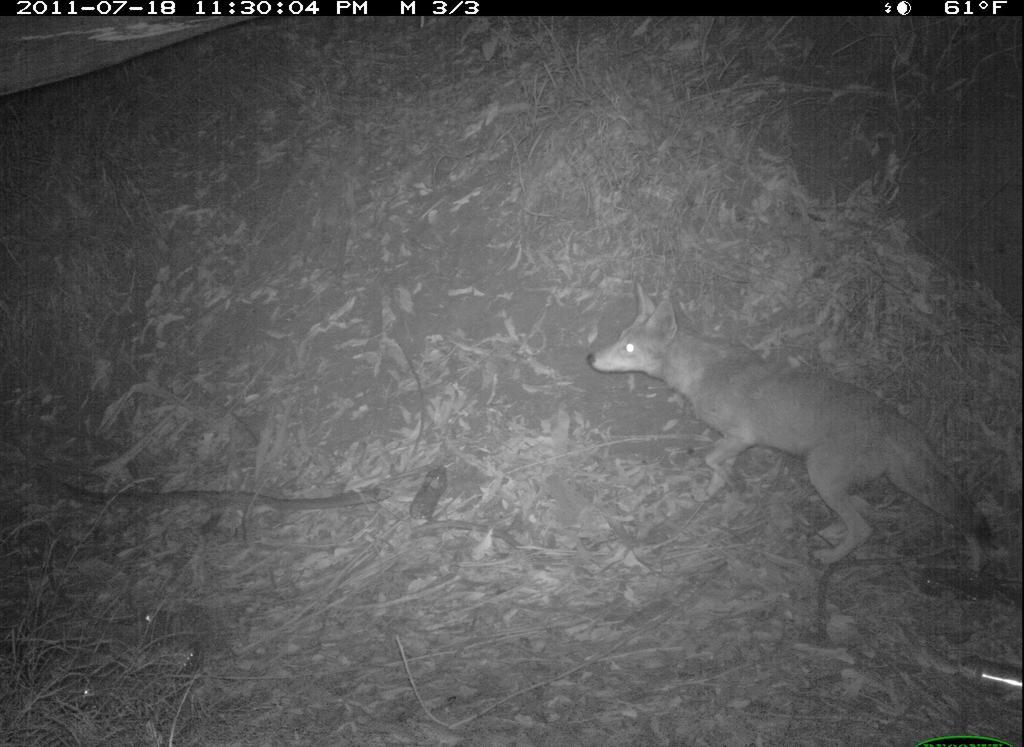coyote: (569, 272, 1004, 593)
